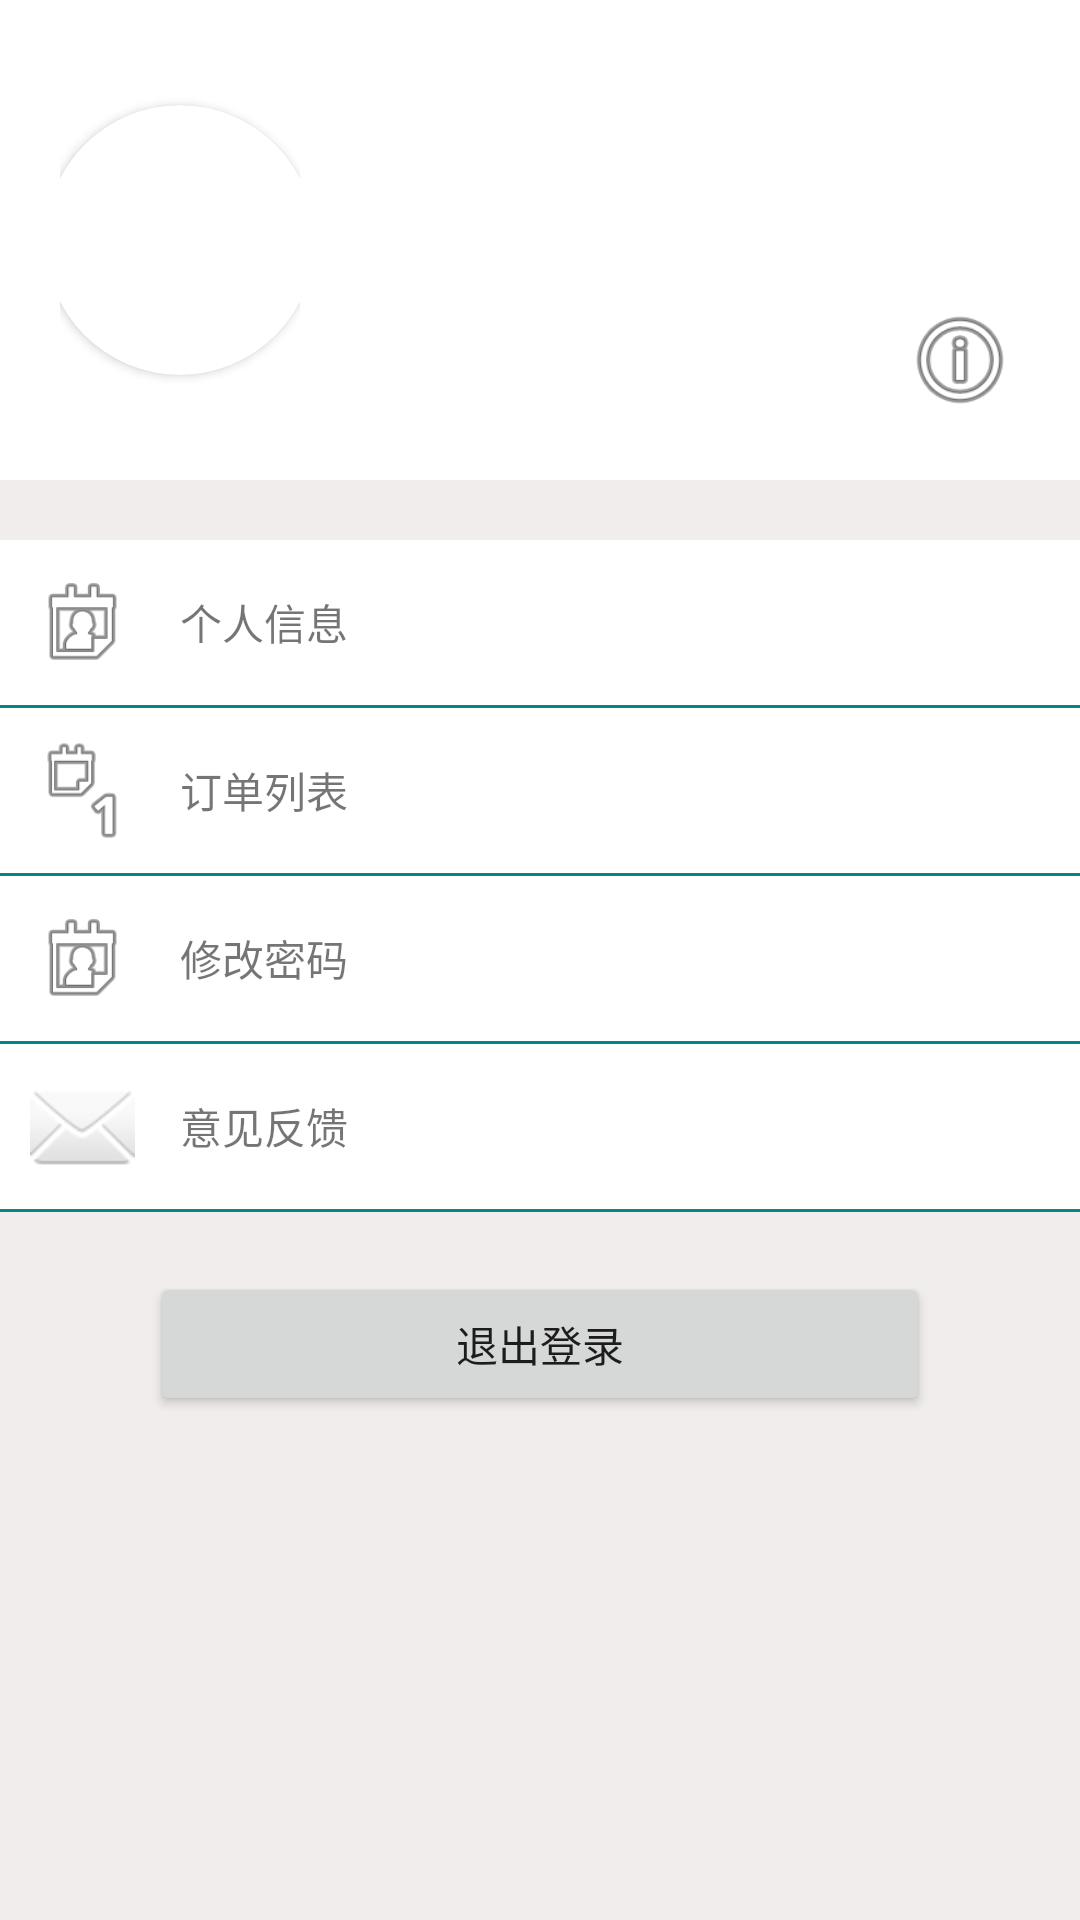

Named icons in this screenshot (1080 x 1920) and their bounding boxes, Rect(x1, y1, x2, y2):
calendar: Rect(48, 583, 117, 660), Rect(48, 919, 117, 996)
day: Rect(47, 743, 117, 838)
email: Rect(30, 1093, 135, 1164)
info details: Rect(917, 317, 1003, 403)
